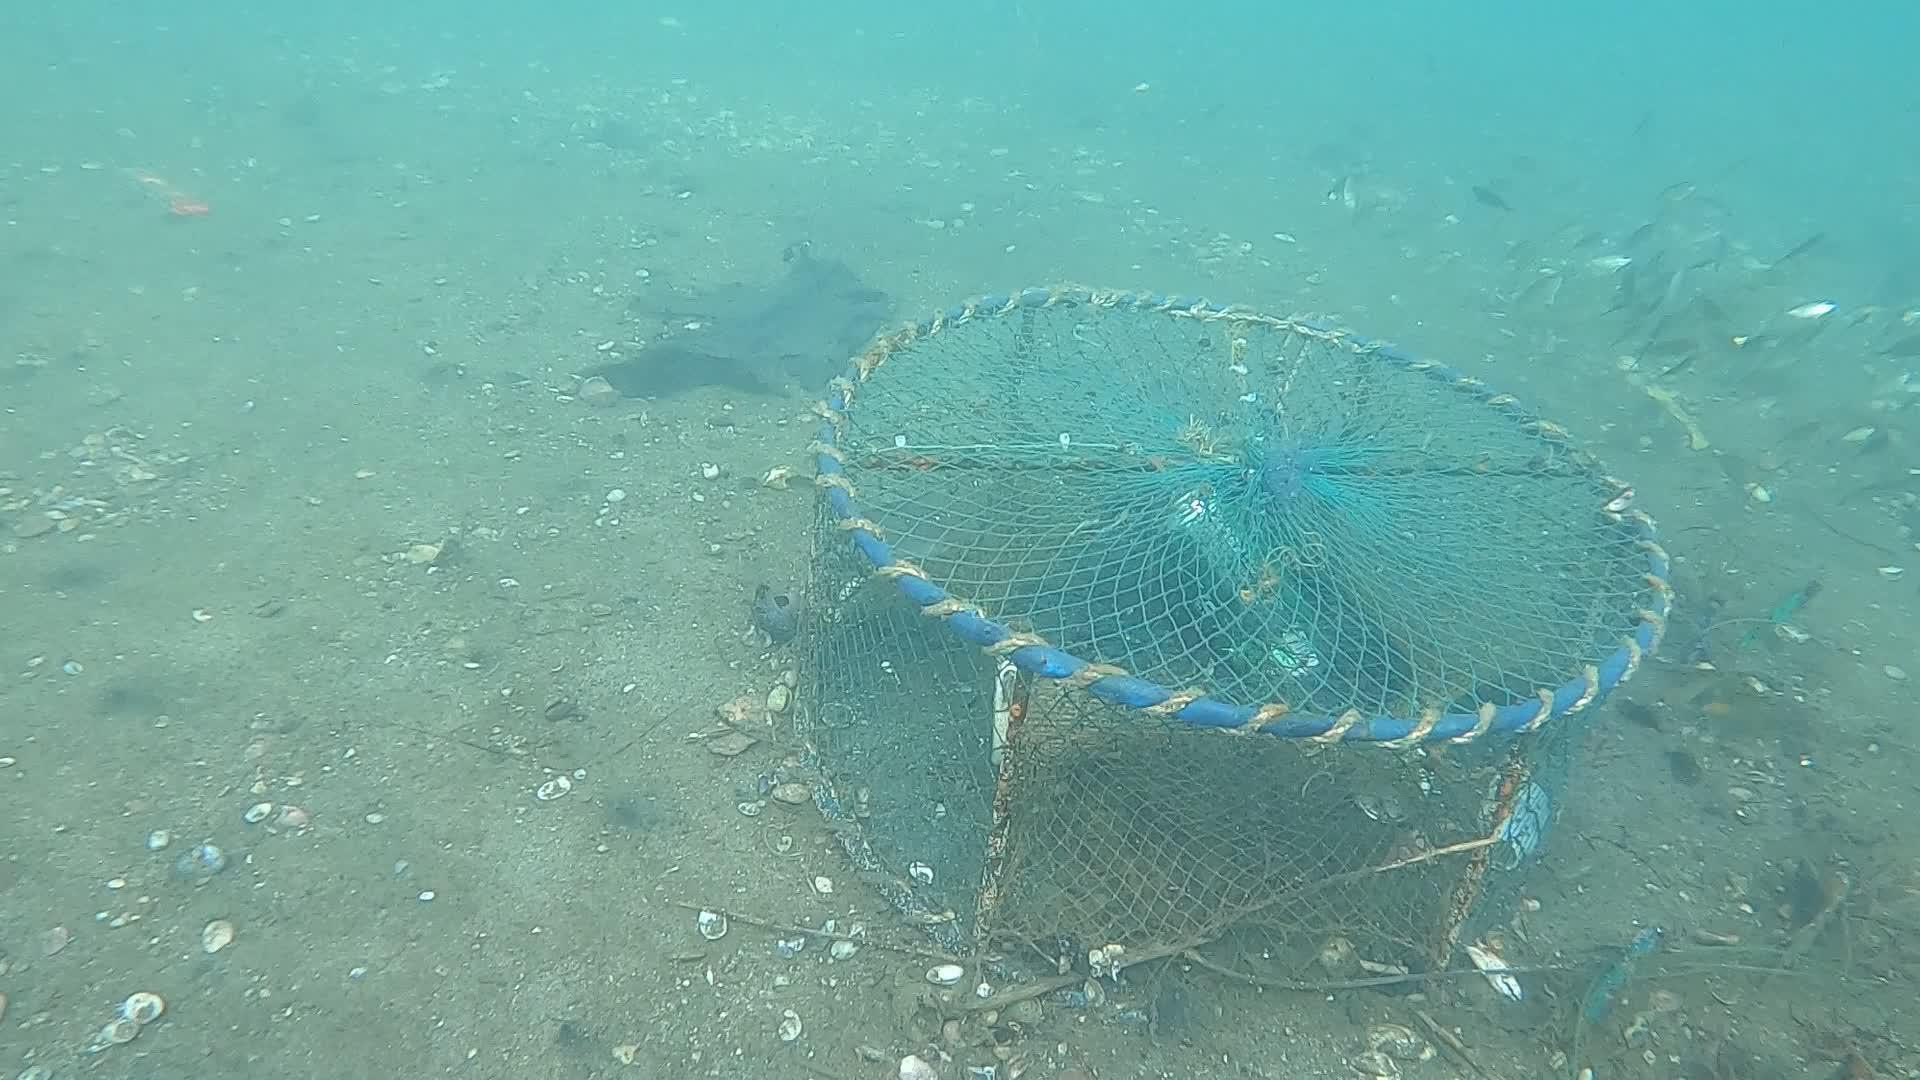circular fish trap: (773, 285, 1677, 1004)
